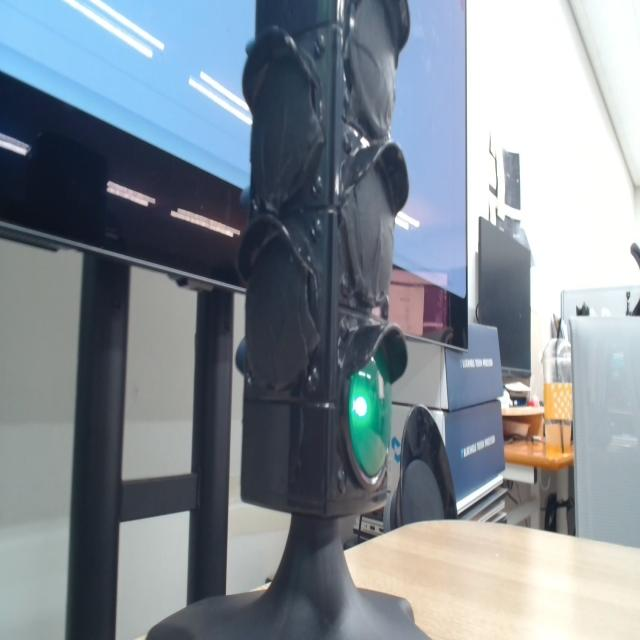green_light: (349, 352, 391, 478)
